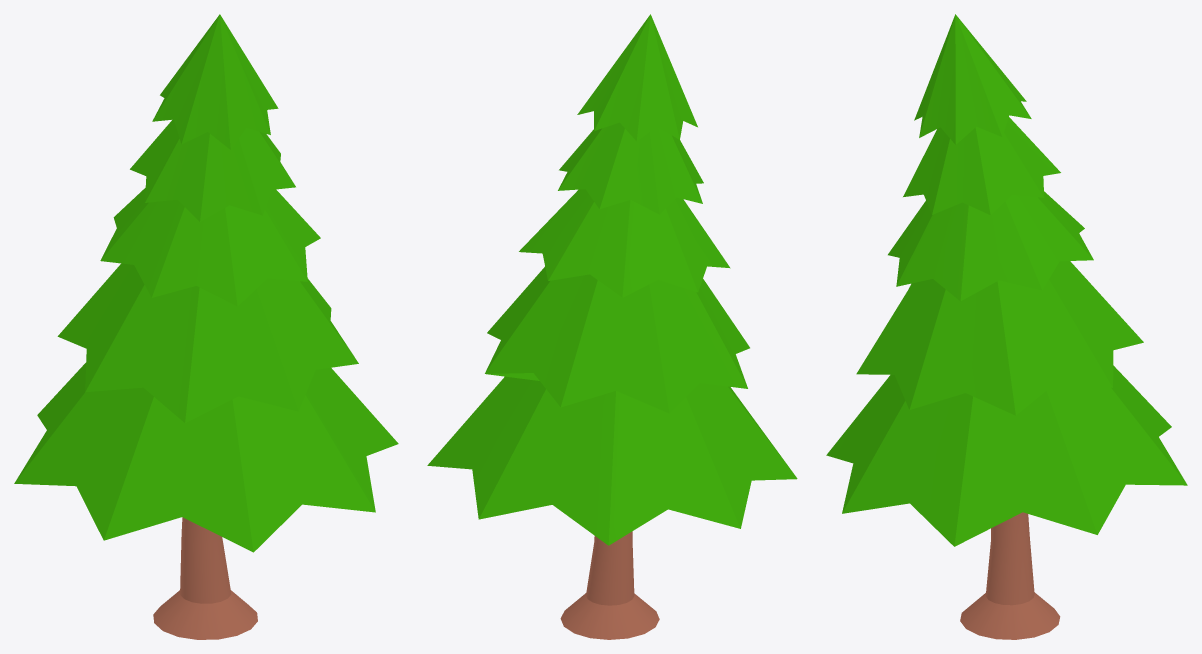
File: object_132_lev1.glb
3 views of the same model, side by side, from view 1: azimuth 30°, elevation 25°; view 2: azimuth 150°, elevation 25°; view 3: azimuth 270°, elevation 25° (orthographic). The views are drawn at different scales.
Parts seen in each view (by area): view 1: object_132_lev1; view 2: object_132_lev1; view 3: object_132_lev1.
Part boxes in pixels (x1,y1,x2,y2): object_132_lev1: (14, 14, 398, 639); object_132_lev1: (427, 14, 797, 639); object_132_lev1: (826, 14, 1187, 639).
Bounding box in the file's own units: 0.6961 × 1.27 × 0.6955.
Materials: 1 (1 with a texture image).
